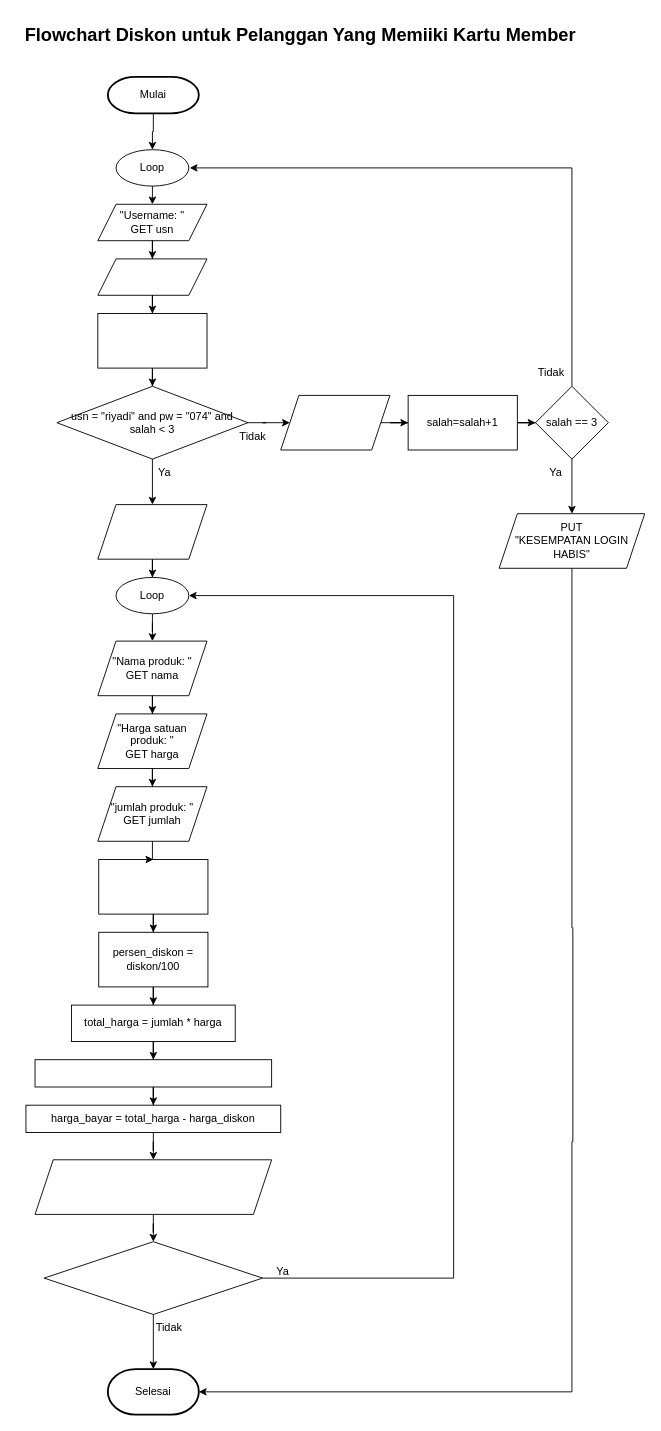
The diagram is 661 pixels wide and 1431 high, and some of its shapes have lost their labels. Each missing label, with the centre of its shape:
"Masih ada yang ingin di beli?: the point at 153,1277
"Password: " GET pw: the point at 152,276
diskon = 74: the point at 153,886
harga_diskon = total_harga * persen_diskon: the point at 153,1073
PUT "harga satuan, jumlah, total harga, besar diskon, harga setelah di diskon": the point at 153,1186
PUT "Login Berhasil": the point at 152,531
PUT "Login Gagal": the point at 335,422
salah=0: the point at 152,340
